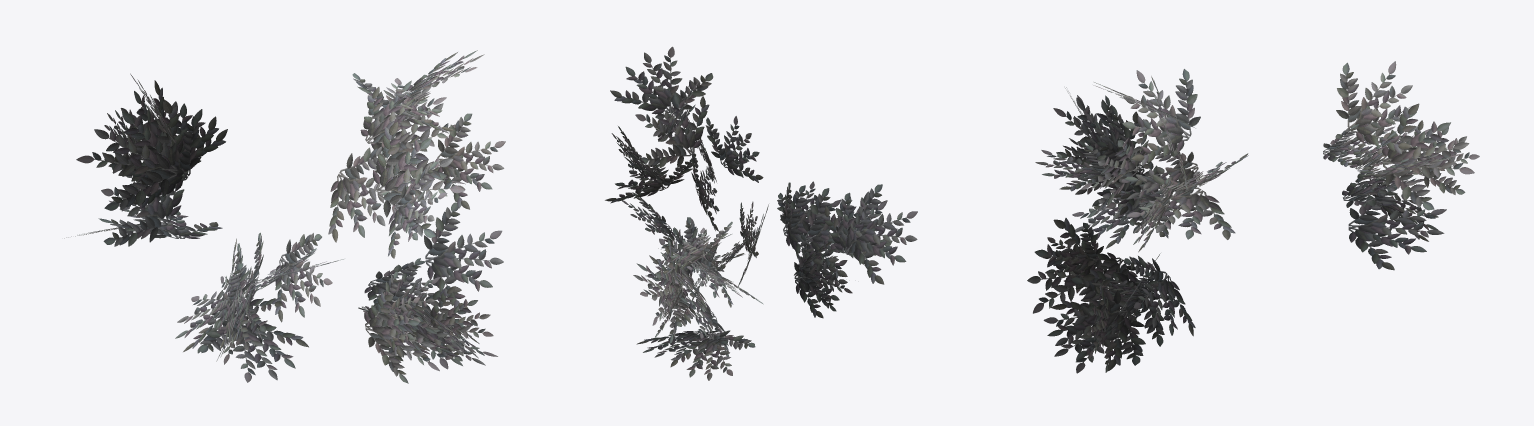
File: jungle_giant_l2.gltf
3 views of the same model, side by side, from view 1: azimuth 30°, elevation 25°; view 2: azimuth 150°, elevation 25°; view 3: azimuth 270°, elevation 25° (orthographic). The views are drawn at different scales.
Visible parts, largest first — view 1: jungle_giant_l2; view 2: jungle_giant_l2; view 3: jungle_giant_l2.
Part boxes in pixels (x1,y1,x2,y2): jungle_giant_l2: (64, 50, 505, 383); jungle_giant_l2: (605, 46, 917, 380); jungle_giant_l2: (1027, 61, 1479, 373).
Size of the model in its own units: 21.34 by 16.64 by 23.09.
Materials: 1 (1 with a texture image).
